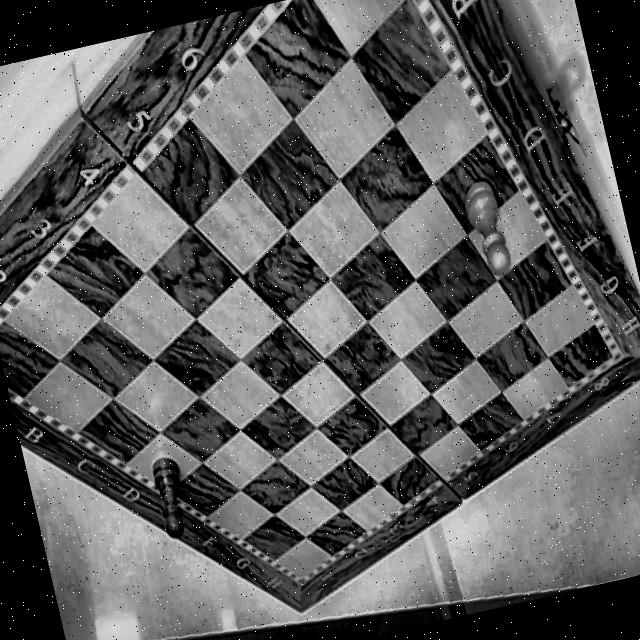black-pawn: (132, 432, 200, 549)
white-pawn: (460, 176, 516, 282)
